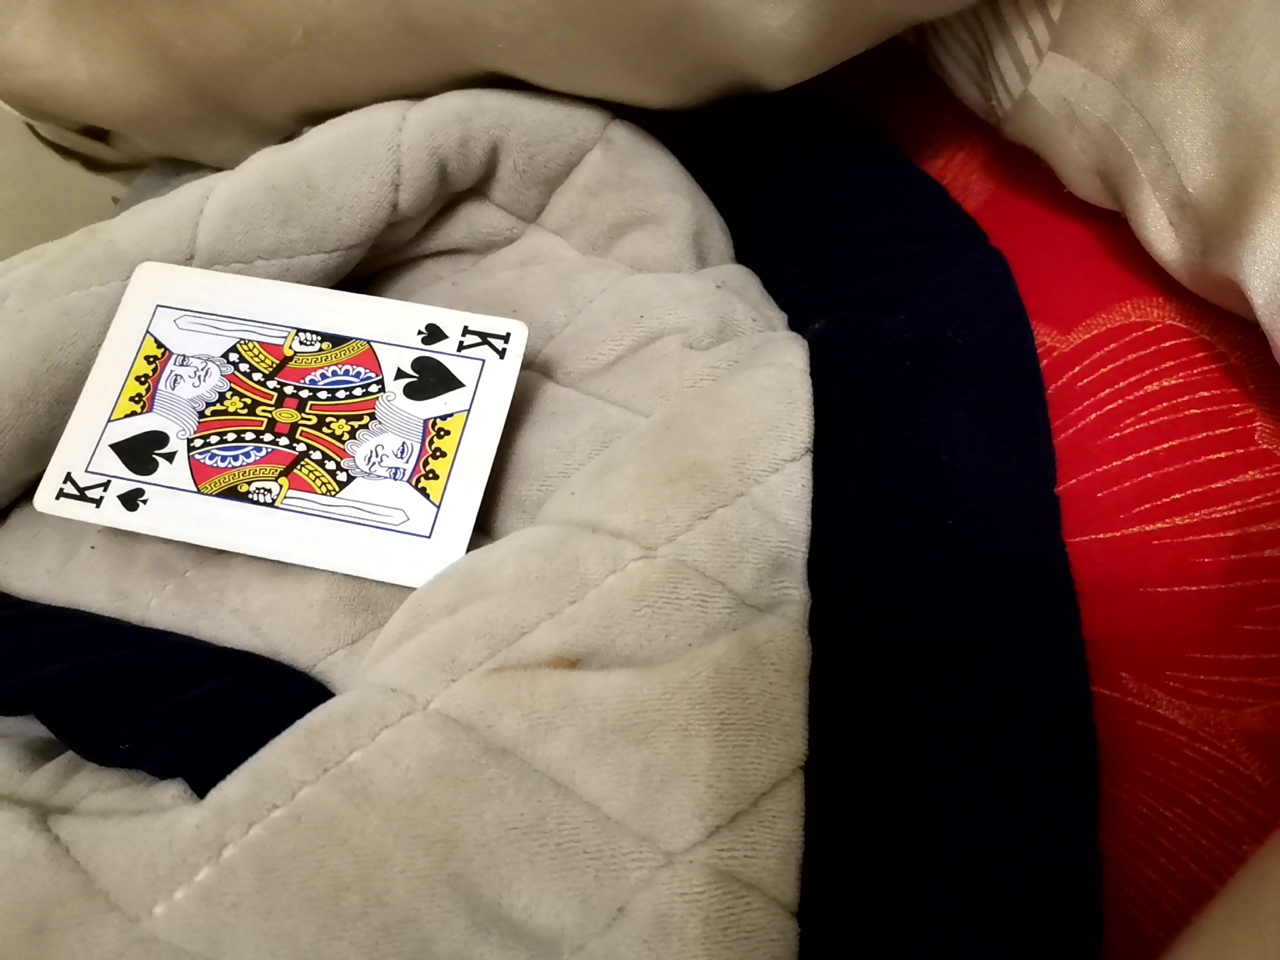ht k: (37, 274, 540, 574)
